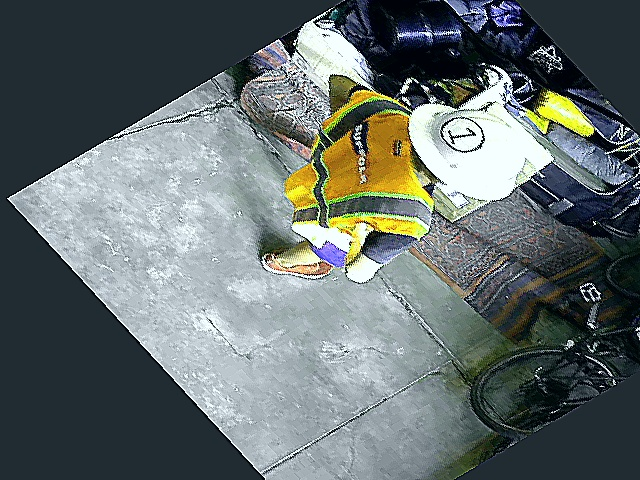one: (434, 111, 492, 158)
